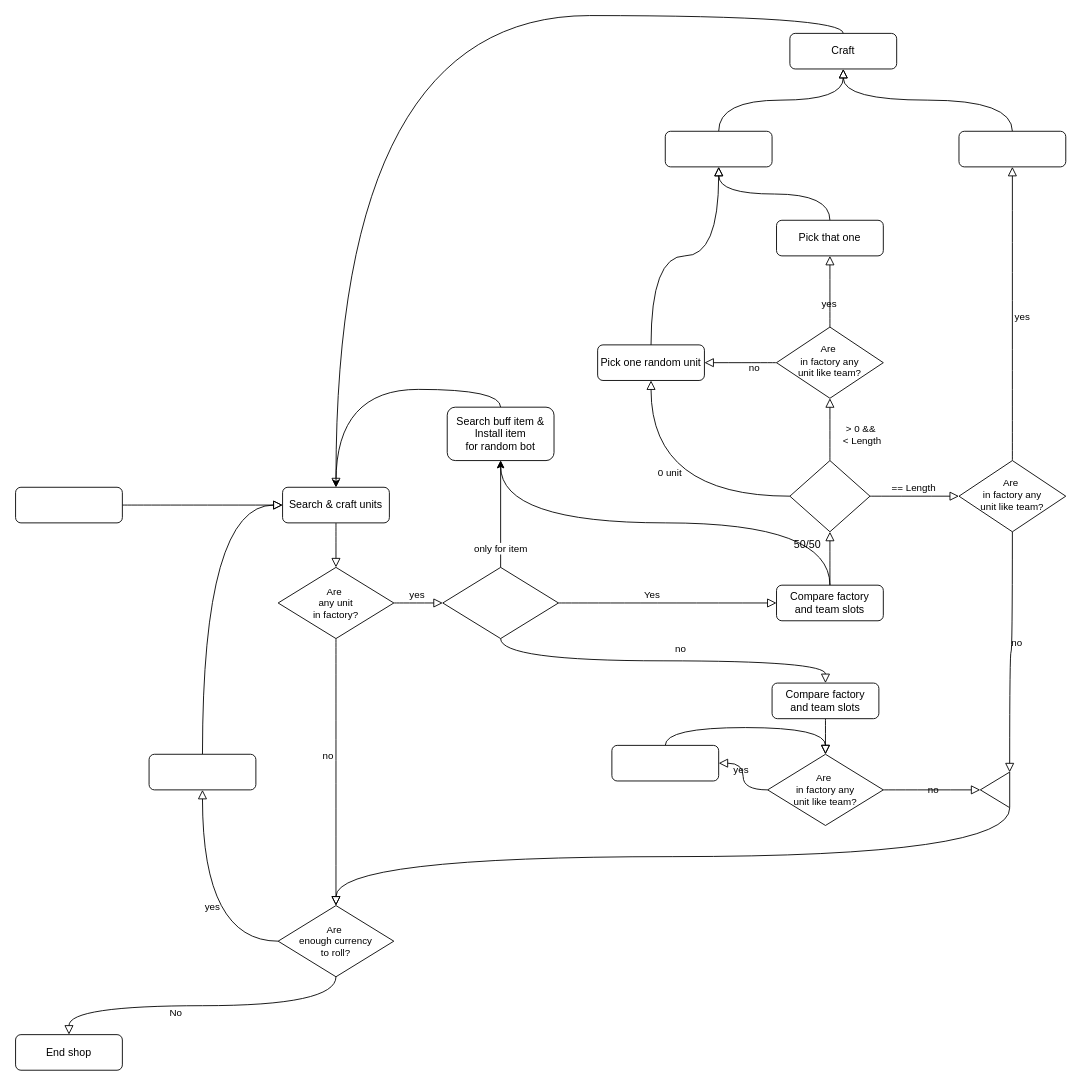
Some shapes in this 1081 by 1086 pixel diagram are drawn without their labels. The box of each missing label's shape, as (x1, y1, x2, y2) in pixels:
Are enough currency to craft?: (442, 566, 558, 639)
Fusion: (958, 130, 1066, 167)
Investigate team slots: (789, 460, 870, 532)
Lock that one: (611, 744, 719, 781)
Move to empty most front slot: (664, 130, 772, 167)
Roll: (148, 753, 256, 790)
Start shop: (15, 486, 122, 523)
